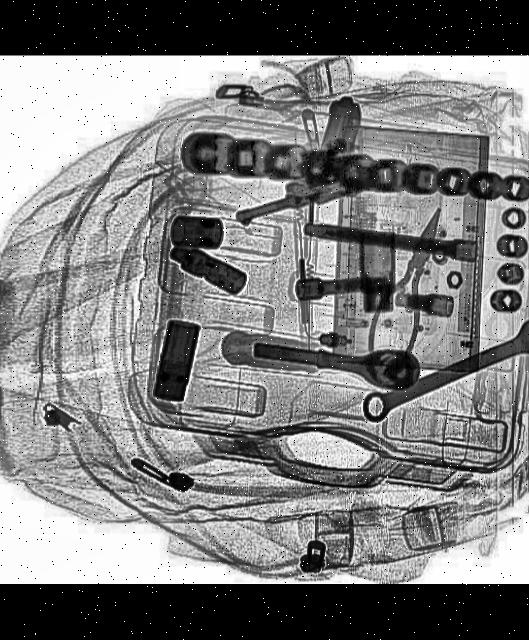Gun: (202, 92, 388, 233)
Pliers: (358, 199, 456, 362)
Wrench: (352, 312, 529, 427)
